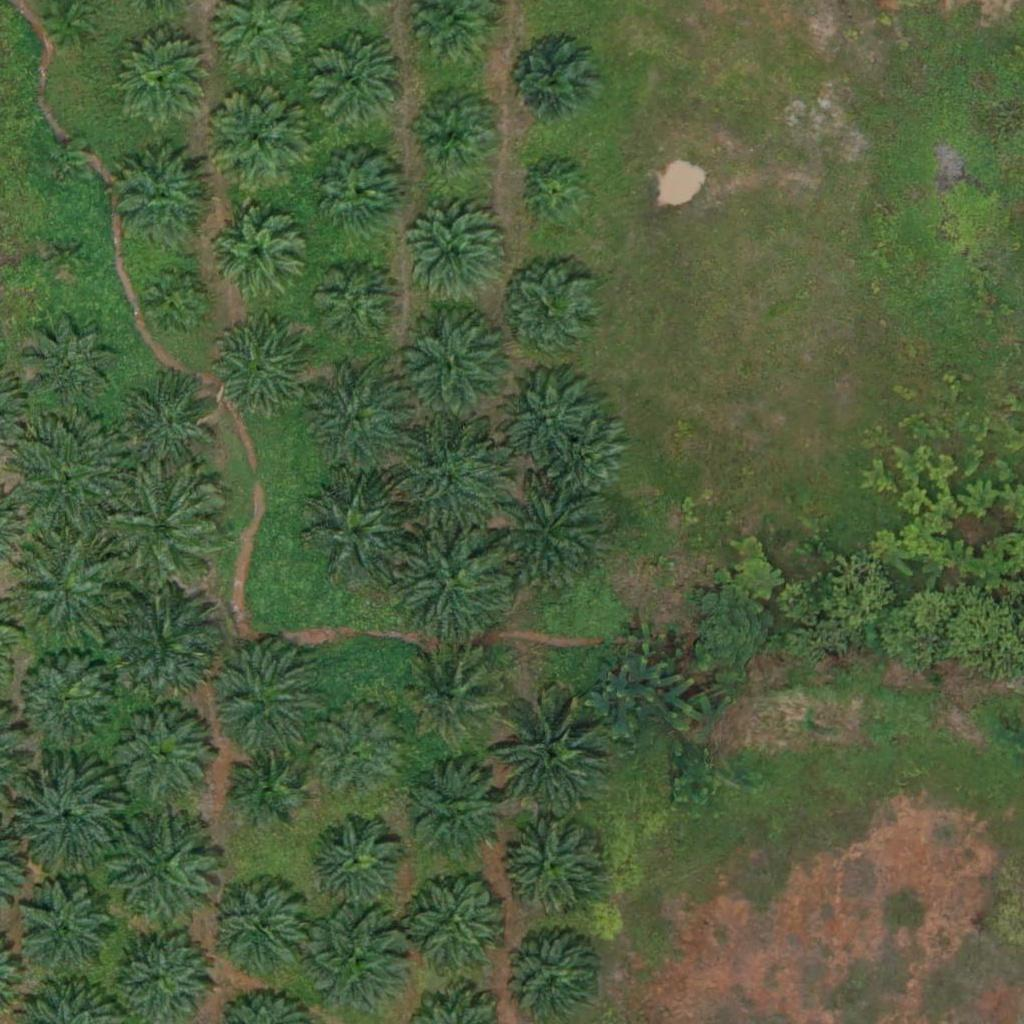Kelapa_Sawit: (103, 470, 216, 584), (207, 644, 320, 758), (399, 865, 512, 979), (297, 904, 410, 1018), (399, 313, 512, 426), (392, 424, 505, 537), (494, 486, 607, 599), (11, 422, 123, 536), (8, 530, 120, 644), (108, 583, 220, 697), (105, 698, 217, 812), (497, 701, 609, 814), (13, 310, 125, 423), (9, 751, 121, 864), (107, 816, 219, 929), (301, 475, 413, 588), (397, 528, 509, 641), (402, 759, 514, 872), (204, 91, 304, 192), (407, 649, 507, 750), (406, 198, 506, 299), (305, 36, 405, 137), (307, 372, 407, 473), (207, 199, 307, 300), (209, 317, 309, 418), (111, 24, 211, 125), (116, 148, 216, 249), (15, 880, 115, 981), (115, 376, 215, 477), (501, 815, 601, 916), (16, 646, 116, 746), (205, 879, 305, 979), (307, 702, 407, 802), (304, 814, 404, 914), (311, 262, 399, 351), (317, 147, 405, 235), (510, 268, 597, 356), (412, 93, 499, 181), (503, 375, 590, 463), (538, 415, 625, 503), (519, 47, 594, 123), (228, 748, 303, 824), (526, 161, 589, 224), (143, 271, 206, 334), (49, 145, 86, 183), (45, 236, 82, 274)
